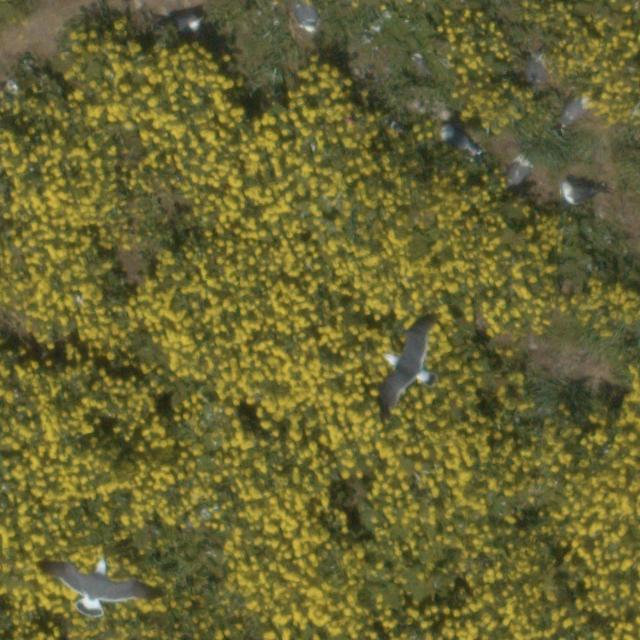F: (382, 326, 436, 410), (61, 564, 139, 608)
umineko: (442, 127, 472, 151), (295, 3, 318, 30), (563, 184, 596, 202), (172, 15, 202, 32), (562, 99, 584, 121), (510, 163, 530, 185)
